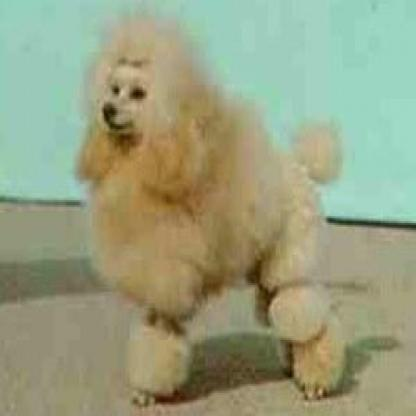miniature_poodle: (68, 7, 349, 413)
